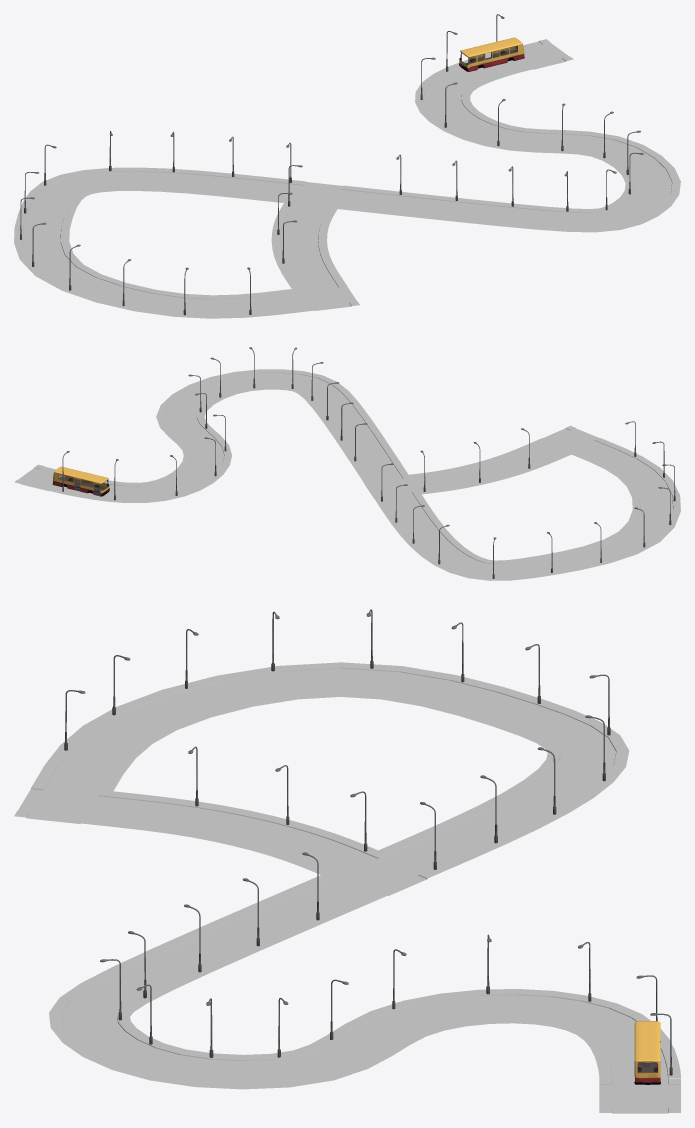
Rendered from roadGen-wip.fbx.
3 views of the same model, one above another, from view 1: azimuth 30°, elevation 25°; view 2: azimuth 150°, elevation 25°; view 3: azimuth 270°, elevation 25° (orthographic). The views are drawn at different scales.
Parts seen in each view (by area): view 1: road01.001, road03, road02.001, road01, road03.001, bus, road-quad-junction; view 2: road01.001, road03, road02.001, road01, road03.001, bus, road-quad-junction; view 3: road01.001, road03, road02.001, road01, road03.001, road-quad-junction, bus.
Part boxes in pixels (box(x1,y1,x2,y2)): road01.001: box(338, 52, 680, 232); road03: box(14, 167, 306, 318); road02.001: box(271, 203, 344, 288); road01: box(284, 14, 643, 211); road03.001: box(20, 131, 359, 315); bus: box(459, 37, 524, 71); road-quad-junction: box(511, 39, 573, 70); road01.001: box(56, 369, 408, 502); road03: box(375, 440, 680, 580); road02.001: box(409, 440, 570, 494); road01: box(62, 347, 420, 500); road03.001: box(381, 421, 675, 578); bus: box(52, 466, 109, 496); road-quad-junction: box(14, 464, 62, 492); road01.001: box(49, 875, 680, 1089); road03: box(34, 662, 629, 874); road02.001: box(93, 791, 377, 874); road01: box(100, 850, 672, 1075); road03.001: box(14, 609, 610, 869); road-quad-junction: box(599, 1078, 680, 1113); bus: box(634, 1021, 660, 1084).
Bounding box in the file's own units: 13040 × 850 × 8155.
